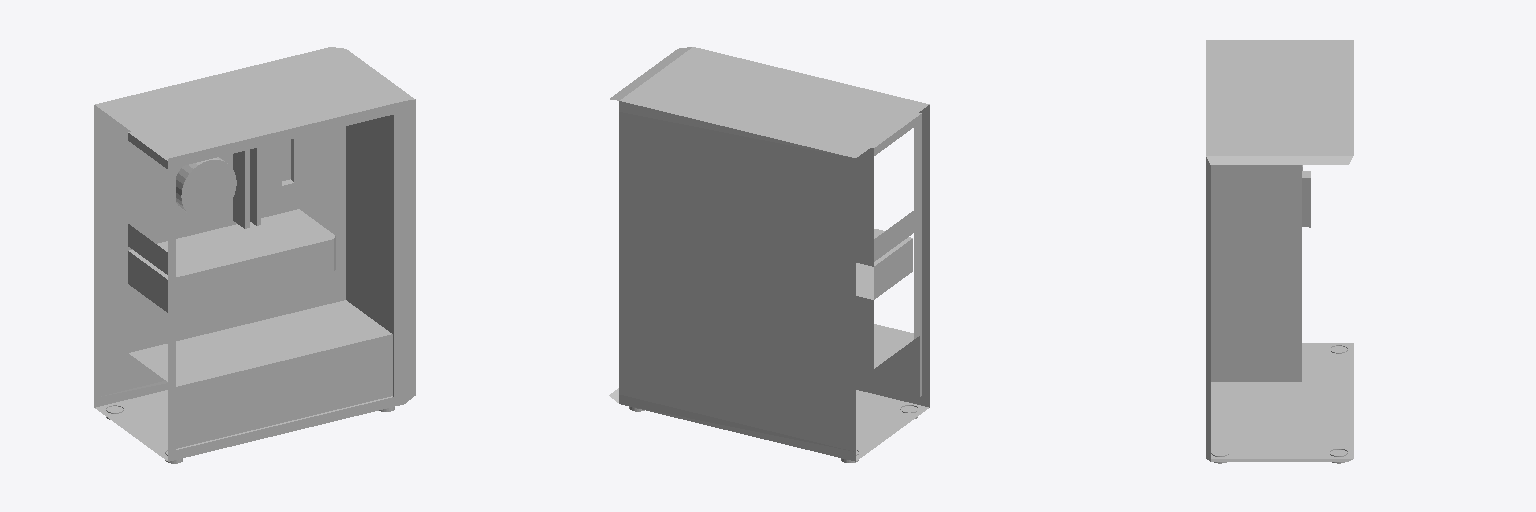
Rendered from pcmesh88.obj.
3 views of the same model, side by side, from view 1: azimuth 30°, elevation 25°; view 2: azimuth 150°, elevation 25°; view 3: azimuth 270°, elevation 25° (orthographic).
Parts seen in each view (by area): view 1: model_2; view 2: model_2; view 3: model_2.
Part boxes in pixels (bbox=[...]): model_2: bbox=[94, 47, 415, 463]; model_2: bbox=[609, 47, 929, 462]; model_2: bbox=[1206, 40, 1353, 463].
Bounding box in the file's own units: 1.48 × 1.75 × 0.7593.